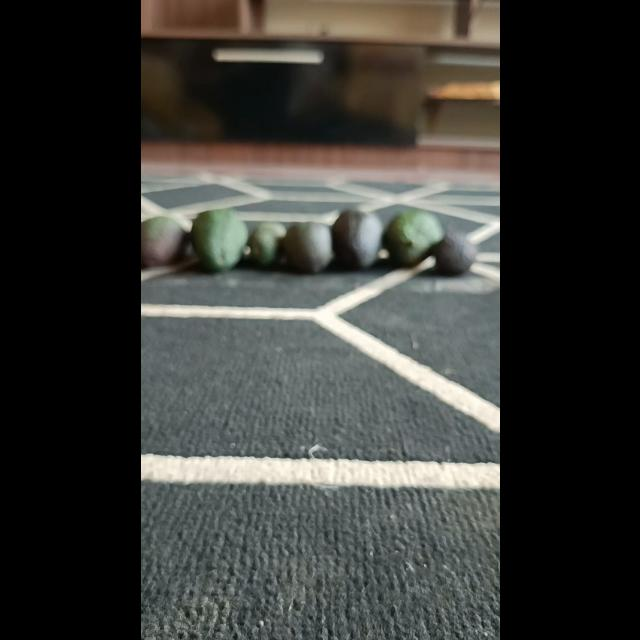Primera: (189, 208, 247, 272), (382, 208, 442, 268), (331, 210, 382, 270)
Segunda: (281, 220, 331, 274), (140, 216, 186, 268)
Tercera: (429, 228, 477, 276), (245, 221, 285, 267)
